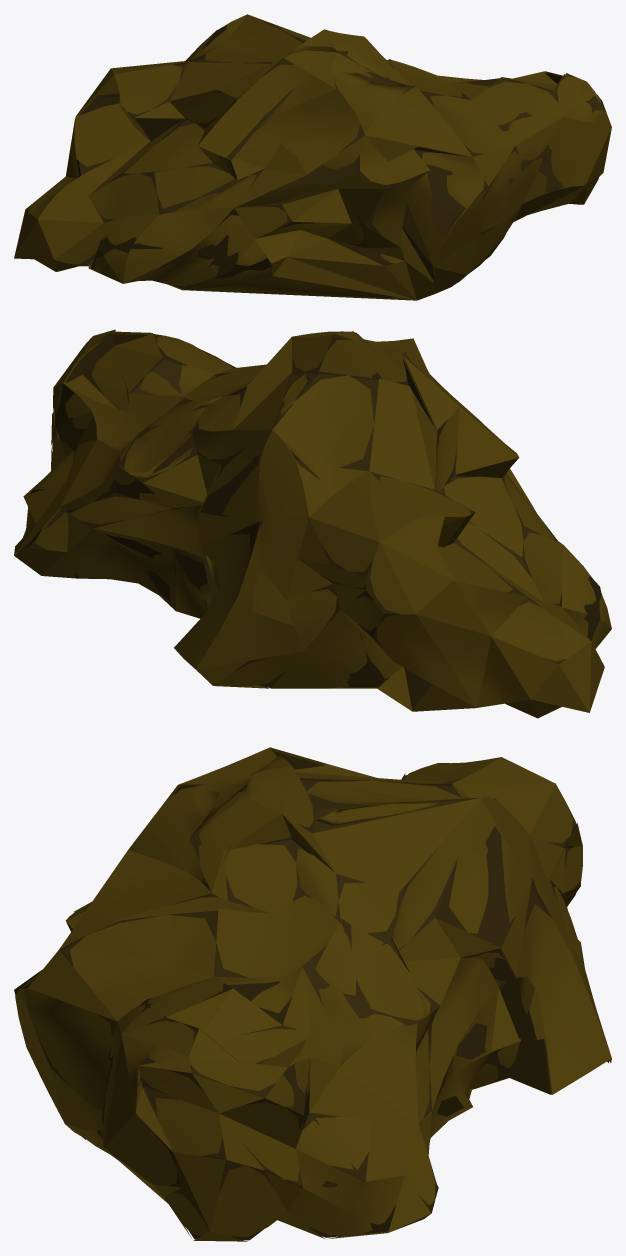
Rendered from rock2.fbx.
3 views of the same model, one above another, from view 1: azimuth 30°, elevation 25°; view 2: azimuth 150°, elevation 25°; view 3: azimuth 270°, elevation 25° (orthographic). The views are drawn at different scales.
Parts seen in each view (by area): view 1: rock_26, rock_25; view 2: rock_26, rock_25; view 3: rock_26, rock_25.
Part boxes in pixels (<box>): rock_26: <box>14,14,611,300</box>; rock_25: <box>27,22,602,297</box>; rock_26: <box>14,329,611,718</box>; rock_25: <box>17,332,601,709</box>; rock_26: <box>15,747,611,1241</box>; rock_25: <box>14,752,609,1240</box>.
Bounding box in the file's own units: 1552 × 672 × 1060.
